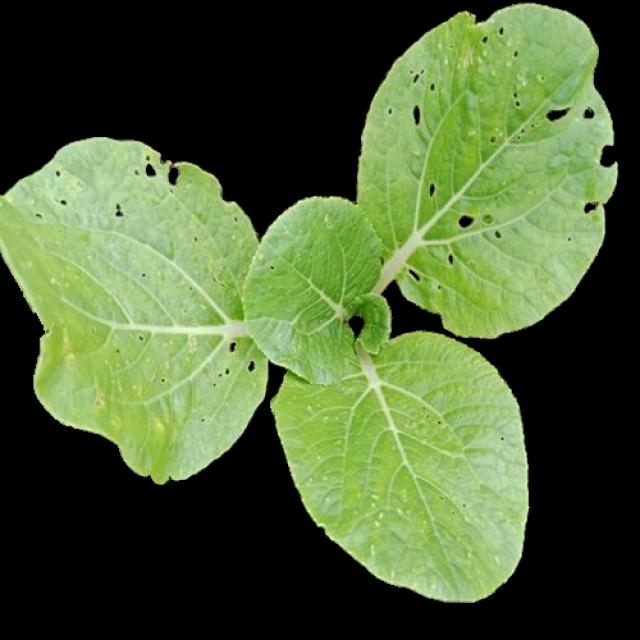not-mature: (2, 2, 620, 600)
unhealthy: (1, 136, 269, 484), (358, 2, 616, 336), (272, 329, 528, 600)
